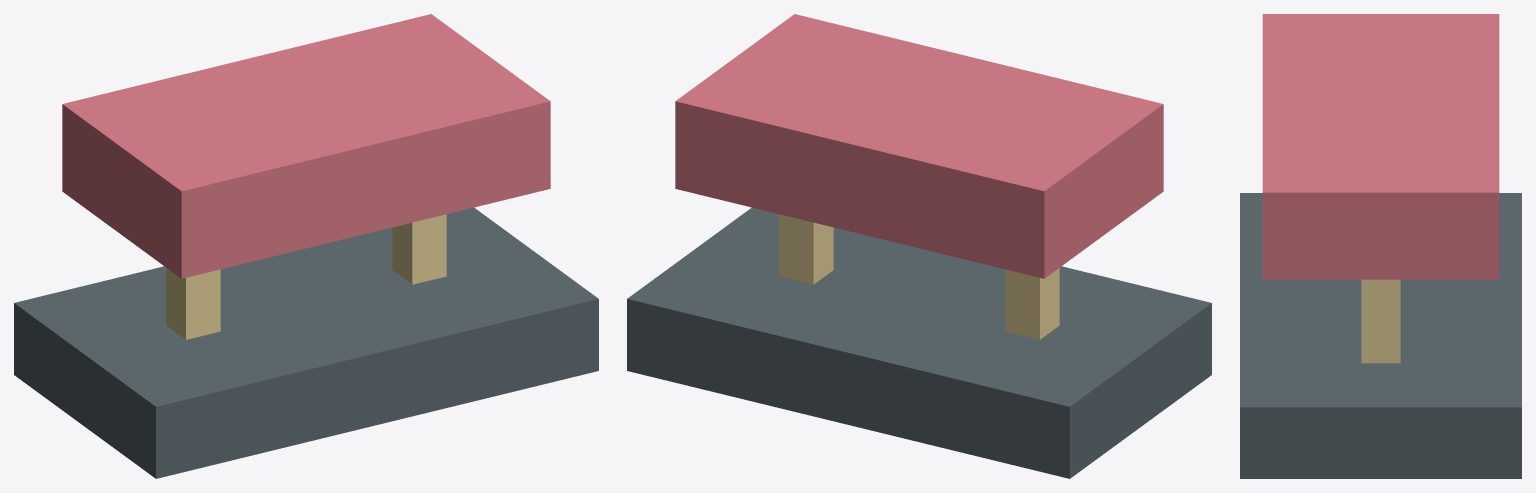
The picture shows the model from 3 angles, left to right: view 1: azimuth 30°, elevation 25°; view 2: azimuth 150°, elevation 25°; view 3: azimuth 270°, elevation 25°; orthographic projection.
Parts seen in each view (by area): view 1: 0000__PSMAT__connector_black, 0003__PSMAT__alert_red, 0001__PSMAT__gold, 0002__PSMAT__gold; view 2: 0000__PSMAT__connector_black, 0003__PSMAT__alert_red, 0001__PSMAT__gold, 0002__PSMAT__gold; view 3: 0003__PSMAT__alert_red, 0000__PSMAT__connector_black, 0002__PSMAT__gold.
Boxes of the visible parts, bbox=[...] form: 0000__PSMAT__connector_black: bbox=[14, 207, 598, 478]; 0003__PSMAT__alert_red: bbox=[62, 14, 550, 278]; 0001__PSMAT__gold: bbox=[166, 268, 220, 339]; 0002__PSMAT__gold: bbox=[392, 214, 446, 284]; 0000__PSMAT__connector_black: bbox=[627, 207, 1211, 478]; 0003__PSMAT__alert_red: bbox=[675, 14, 1163, 278]; 0001__PSMAT__gold: bbox=[1005, 268, 1059, 339]; 0002__PSMAT__gold: bbox=[779, 214, 833, 284]; 0003__PSMAT__alert_red: bbox=[1262, 14, 1499, 279]; 0000__PSMAT__connector_black: bbox=[1240, 193, 1521, 478]; 0002__PSMAT__gold: bbox=[1361, 279, 1400, 363].
Size of the model in its own units: 0.009 by 0.00525 by 0.005.
